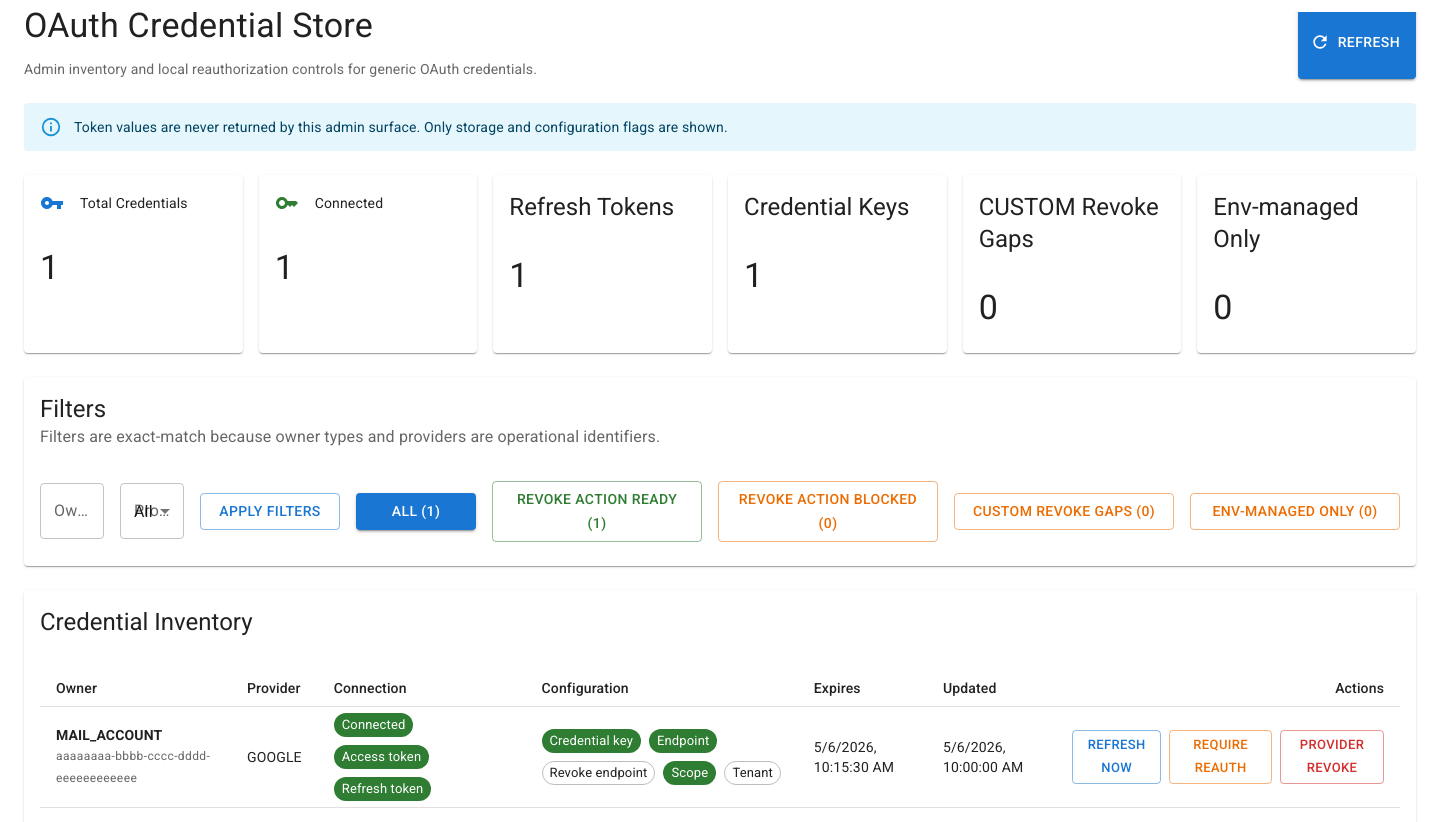
revokes OAuth token at the provider and replaces the row from the redacted response
(page scrolled)
Expected: the text "MAIL_ACCOUNT" is shown, [56,727,162,743]
Click the button "Provider Revoke" at [1332, 757], box [1280,730,1384,784]
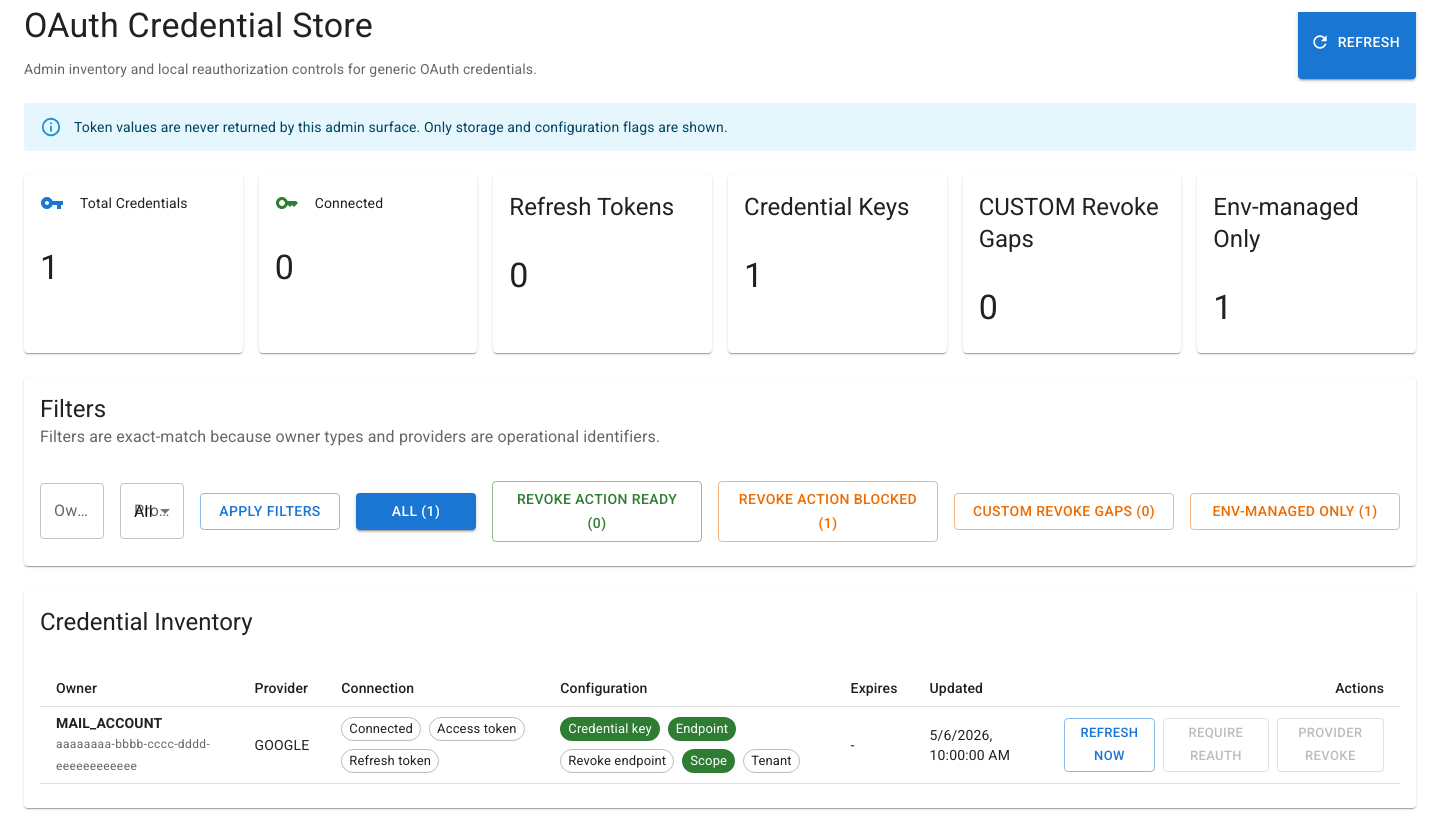
Expected: the button "Provider Revoke" is disabled, [1277,718,1384,772]
